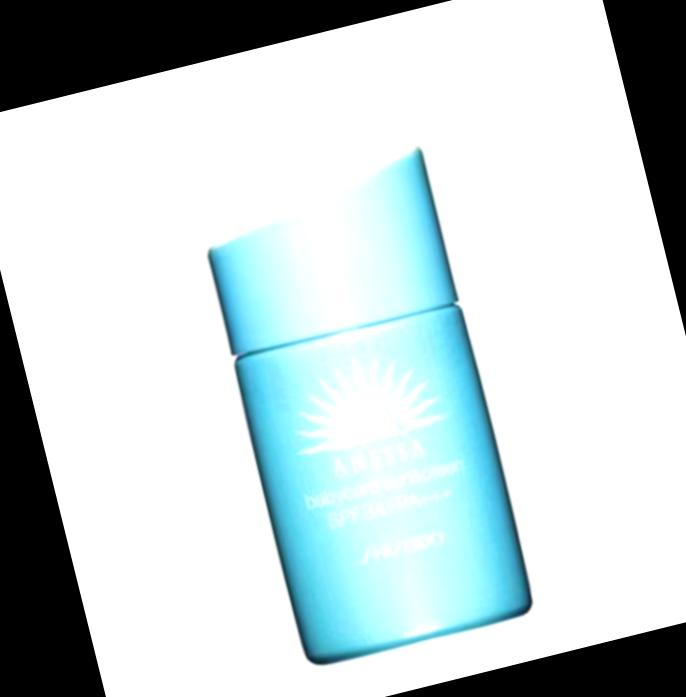cosmetic: (191, 140, 542, 669)
